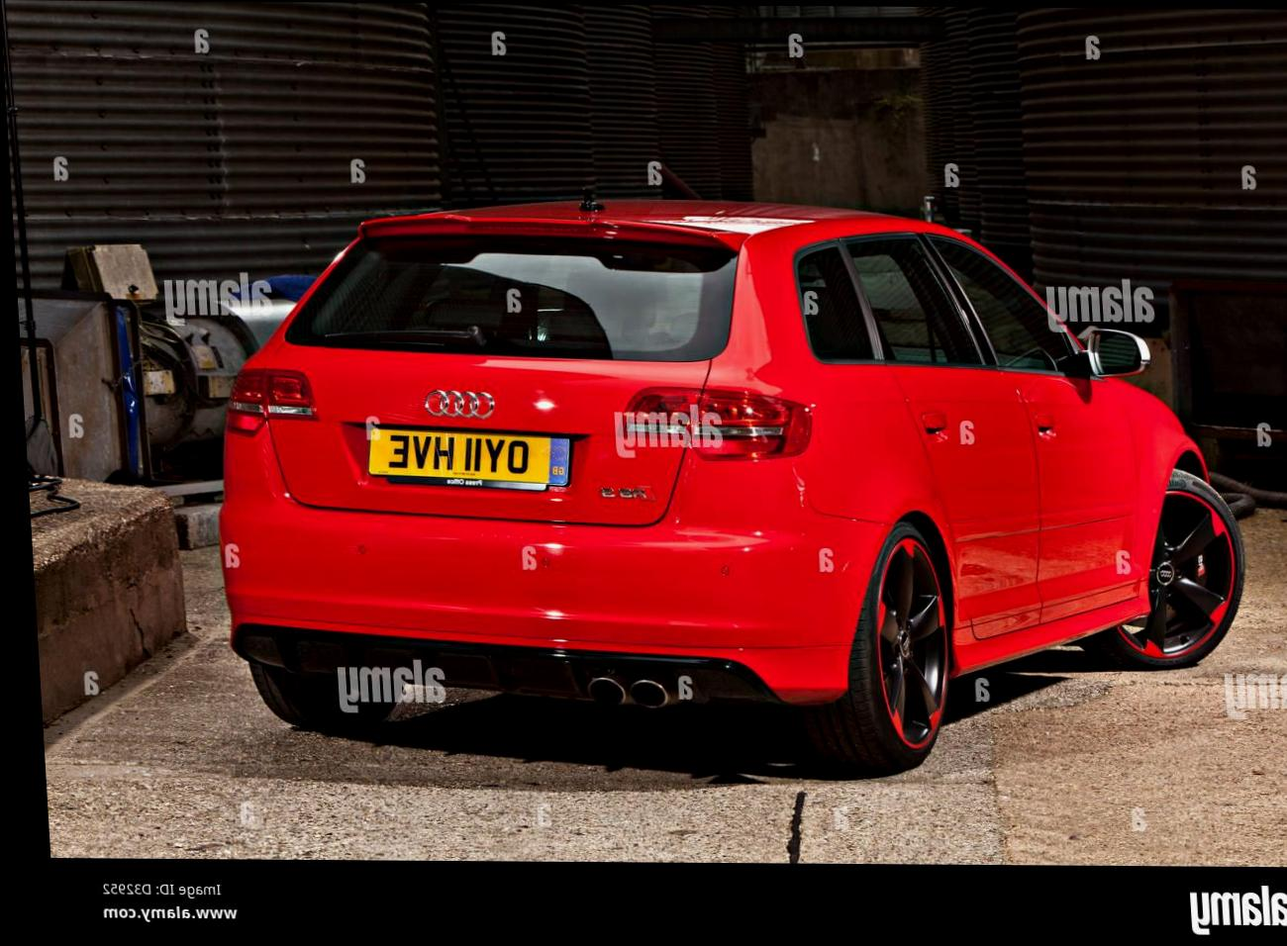License_Plate: (346, 419, 586, 496)
